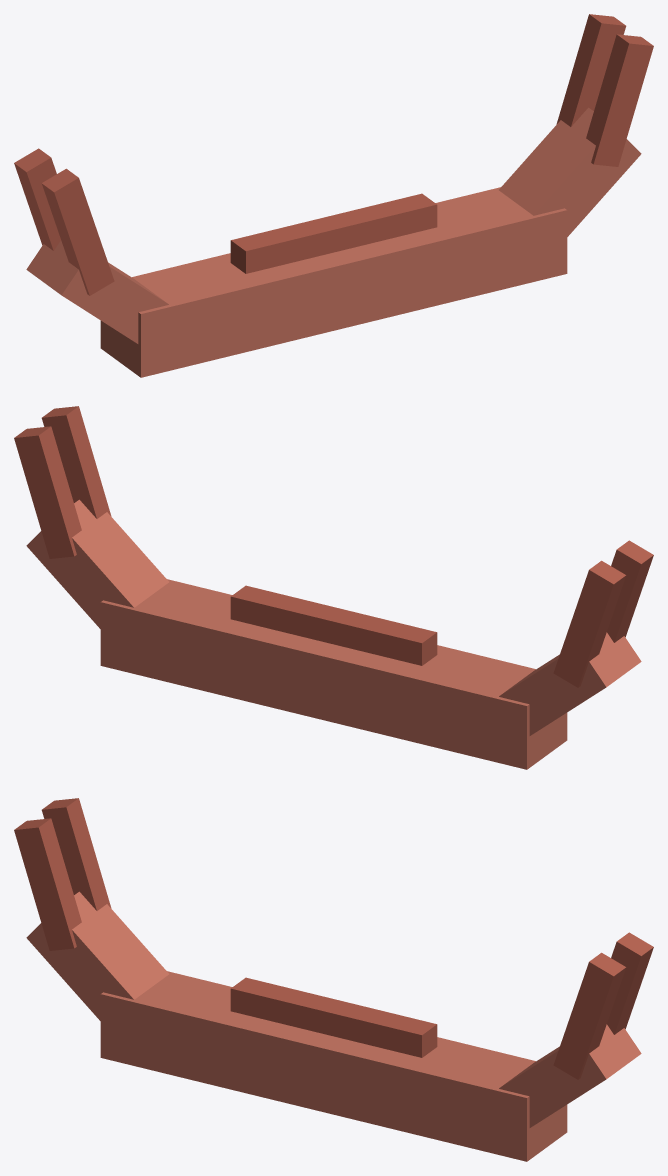
Rendered from loc_qz_bld_ridge.glb.
3 renders of one model, top to bottom at view 1: azimuth 30°, elevation 25°; view 2: azimuth 150°, elevation 25°; view 3: azimuth 330°, elevation 25°, orthographic.
Visible parts, largest first — view 1: loc_qz_bld_ridge; view 2: loc_qz_bld_ridge; view 3: loc_qz_bld_ridge.
Part boxes in pixels (<box>): loc_qz_bld_ridge: <box>14,14,653,377</box>; loc_qz_bld_ridge: <box>14,406,653,769</box>; loc_qz_bld_ridge: <box>14,798,653,1161</box>.
Bounding box in the file's own units: 1 × 0.3429 × 0.116.
